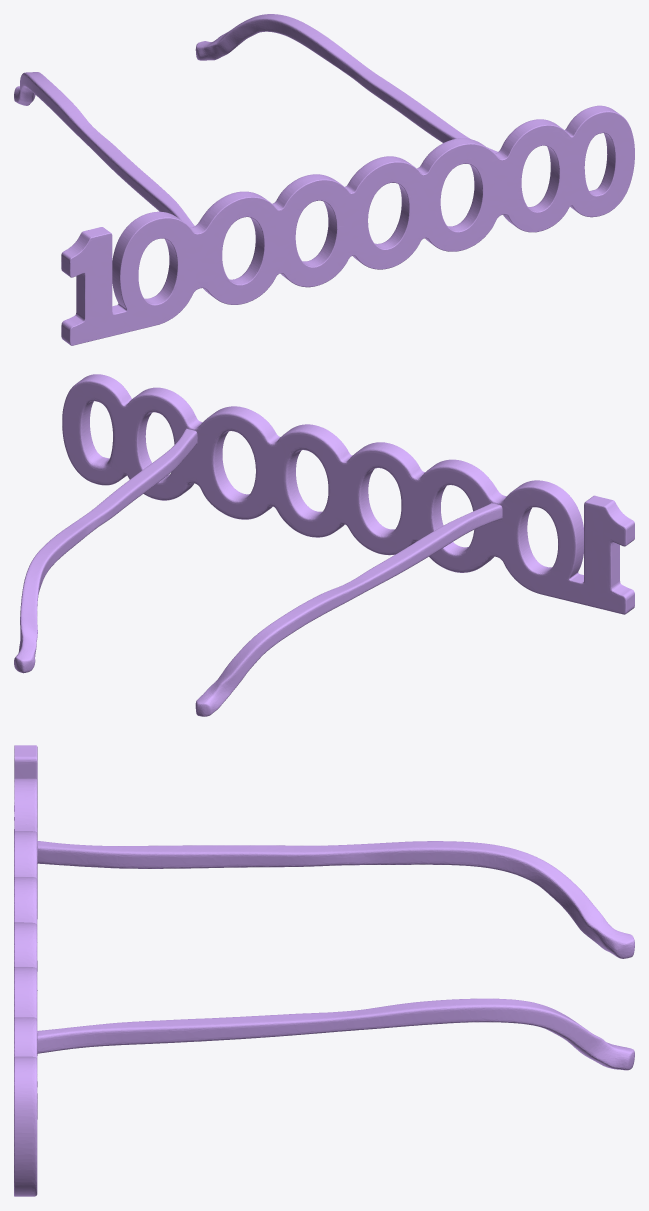
The model's file is gift-glasses.glb.
3 renders of one model, top to bottom at view 1: azimuth 30°, elevation 25°; view 2: azimuth 150°, elevation 25°; view 3: azimuth 270°, elevation 25°, orthographic. The views are drawn at different scales.
Parts seen in each view (by area): view 1: hostinger_glasses.glb; view 2: hostinger_glasses.glb; view 3: hostinger_glasses.glb.
Boxes of the visible parts, box(x1,y1,x2,y2) form: hostinger_glasses.glb: box(14, 14, 634, 345); hostinger_glasses.glb: box(14, 374, 634, 716); hostinger_glasses.glb: box(14, 745, 634, 1196).
Size of the model in its own units: 1.6 by 0.2875 by 1.19.
